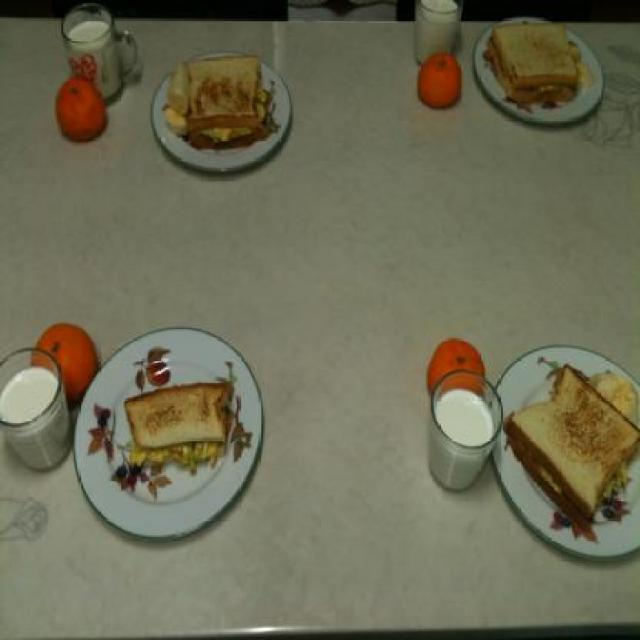Sandwich: (501, 366, 639, 523), (180, 55, 268, 152), (482, 23, 580, 105), (125, 383, 233, 446)
